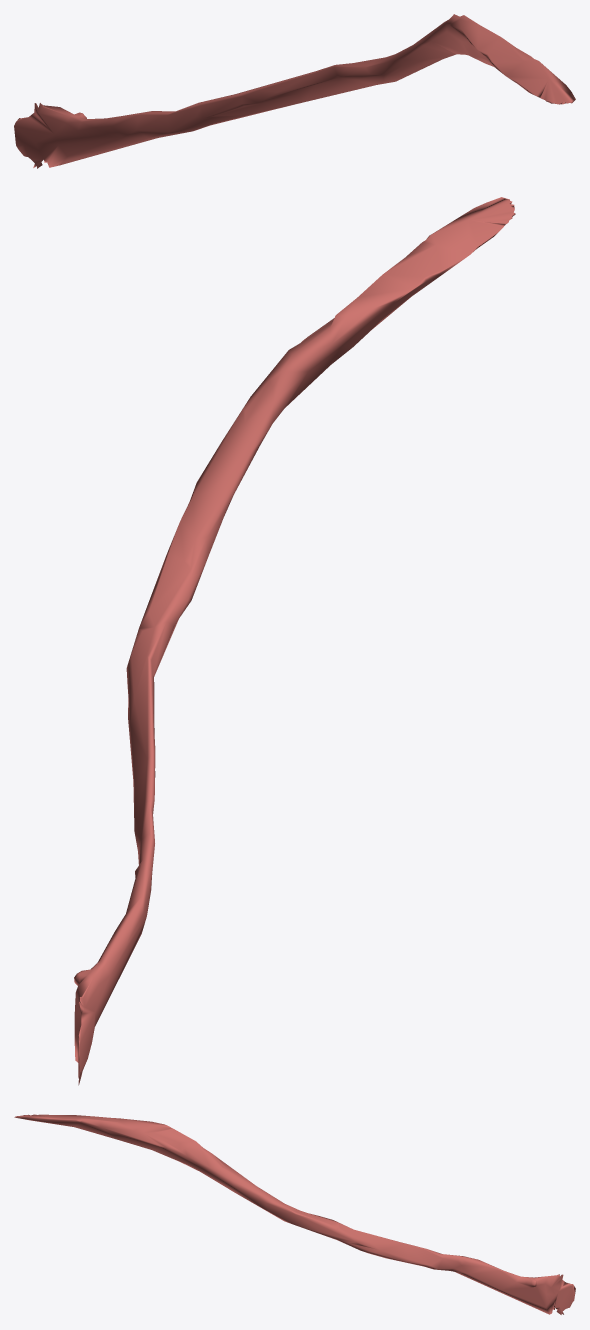
The picture shows the model from 3 angles, top to bottom: view 1: azimuth 30°, elevation 25°; view 2: azimuth 150°, elevation 25°; view 3: azimuth 270°, elevation 25°; orthographic projection. The views are drawn at different scales.
Visible parts, largest first — view 1: 右侧第三腓骨肌; view 2: 右侧第三腓骨肌; view 3: 右侧第三腓骨肌.
Part boxes in pixels (x1,y1,x2,y2): 右侧第三腓骨肌: [14, 14, 575, 168]; 右侧第三腓骨肌: [74, 197, 515, 1085]; 右侧第三腓骨肌: [14, 1114, 575, 1314].
Bounding box in the file's own units: 0.0375 × 0.0815 × 0.181.
